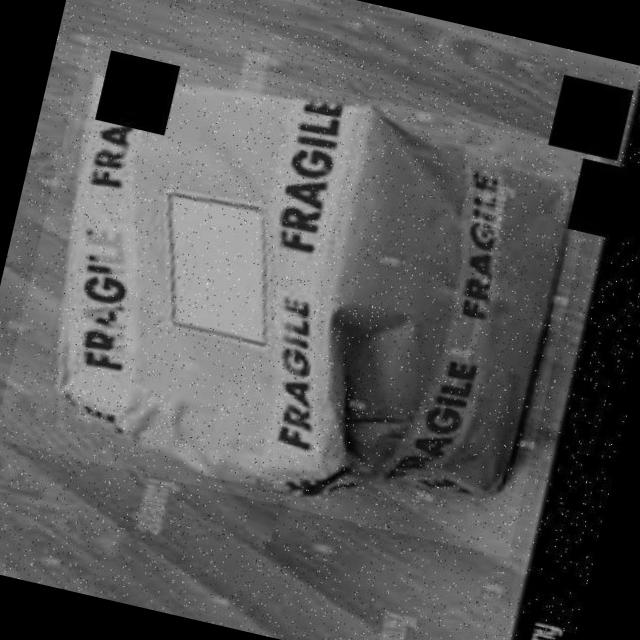box: (0, 33, 602, 558)
